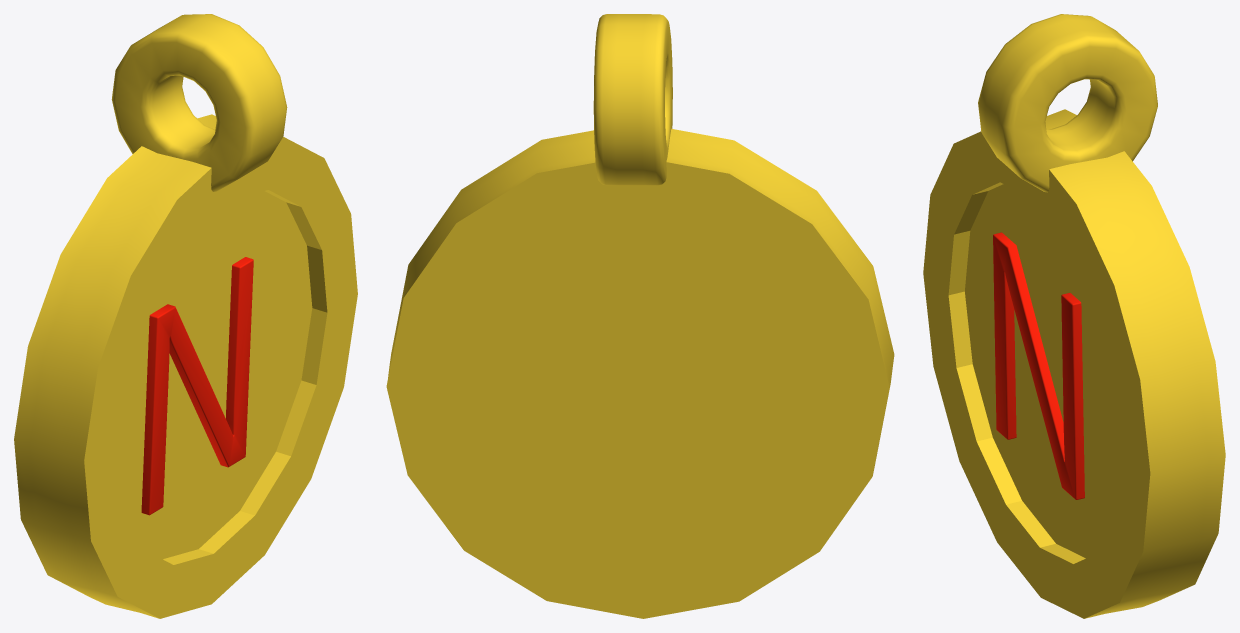
The picture shows the model from 3 angles, left to right: view 1: azimuth 30°, elevation 25°; view 2: azimuth 150°, elevation 25°; view 3: azimuth 270°, elevation 25°; orthographic projection.
Visible parts, largest first — view 1: Cylinder.008, Tube.008, N_2.008; view 2: Cylinder.008, Tube.008; view 3: Cylinder.008, Tube.008, N_2.008.
Part boxes in pixels (x1=…): Cylinder.008: x1=14, y1=114, x2=357, y2=618; Tube.008: x1=111, y1=14, x2=287, y2=191; N_2.008: x1=141, y1=257, x2=253, y2=515; Cylinder.008: x1=386, y1=128, x2=894, y2=618; Tube.008: x1=593, y1=14, x2=672, y2=185; Cylinder.008: x1=923, y1=109, x2=1225, y2=618; Tube.008: x1=978, y1=14, x2=1157, y2=192; N_2.008: x1=993, y1=232, x2=1084, y2=499.
Bounding box in the file's own units: 16.88 × 10.48 × 21.94.
